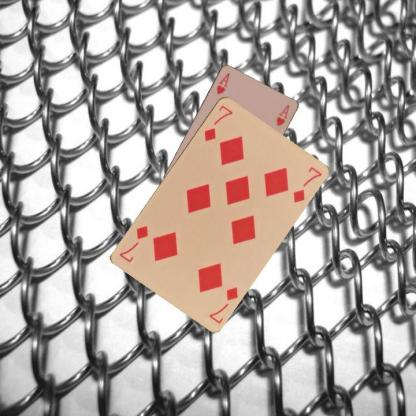7d: (201, 102, 234, 142), (206, 284, 239, 324)
Ah: (214, 70, 230, 95)
